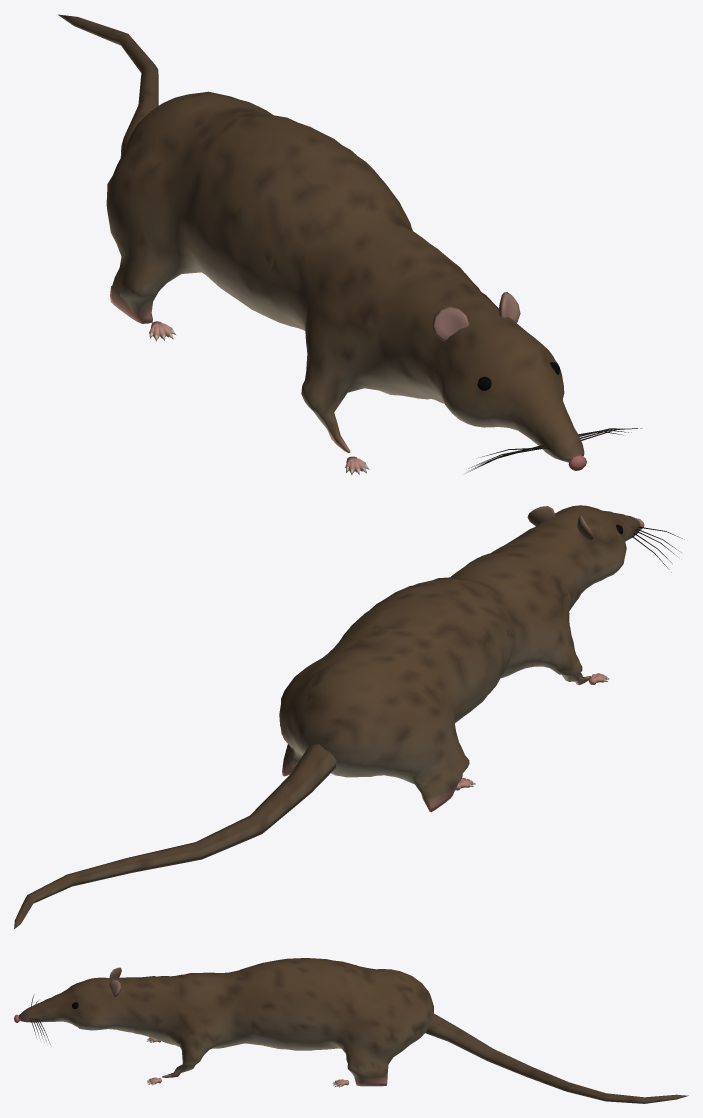
The model's file is Morganucodon.fbx.
3 views of the same model, one above another, from view 1: azimuth 30°, elevation 25°; view 2: azimuth 150°, elevation 25°; view 3: azimuth 270°, elevation 25° (orthographic). The views are drawn at different scales.
Visible parts, largest first — view 1: Morganucodon; view 2: Morganucodon; view 3: Morganucodon.
Boxes of the visible parts, x1=… form: Morganucodon: x1=58, y1=14, x2=642, y2=475; Morganucodon: x1=14, y1=505, x2=684, y2=929; Morganucodon: x1=14, y1=958, x2=688, y2=1103.
Bounding box in the file's own units: 0.2184 × 0.1429 × 0.8753.
